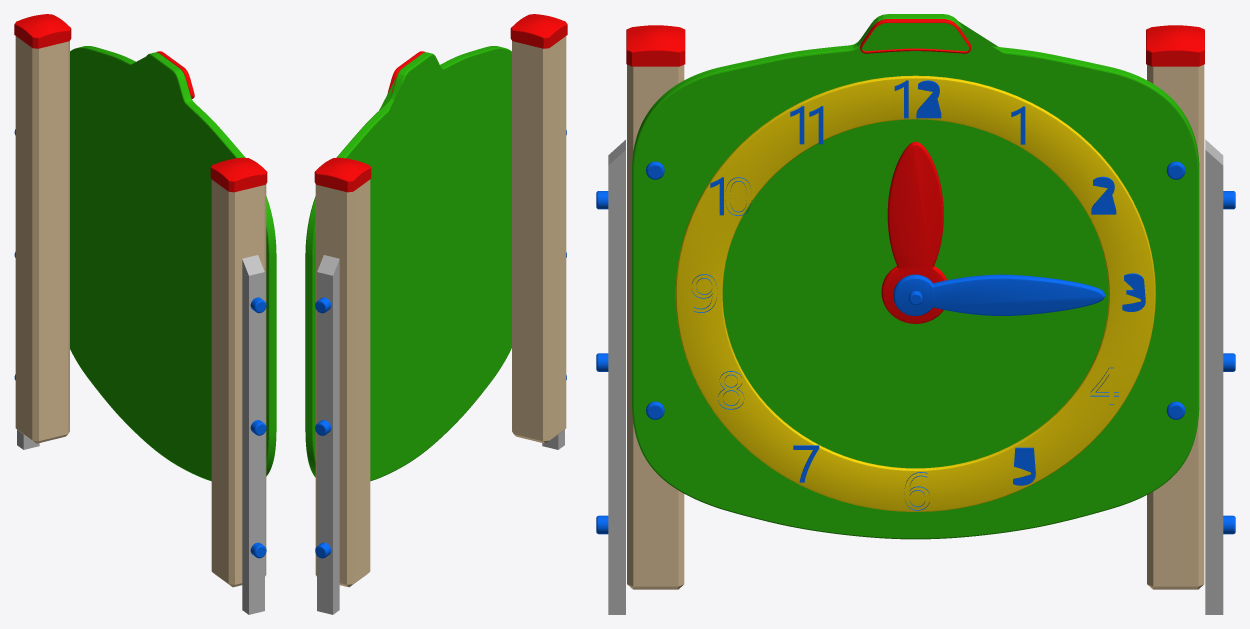
The picture shows the model from 3 angles, left to right: view 1: azimuth 30°, elevation 25°; view 2: azimuth 150°, elevation 25°; view 3: azimuth 270°, elevation 25°; orthographic projection. The views are drawn at different scales.
Parts seen in each view (by area): view 1: zelenieelementy, bejevieelementy, serieelementy, krasnieelementy, sinieelementy; view 2: zelenieelementy, bejevieelementy, serieelementy, krasnieelementy, sinieelementy; view 3: zelenieelementy, jeltieelementy, bejevieelementy, serieelementy, sinieelementy, krasnieelementy.
Boxes of the visible parts, x1,y1,x2,y2 form: zelenieelementy: [70, 46, 276, 481]; bejevieelementy: [15, 36, 266, 587]; serieelementy: [17, 255, 264, 614]; krasnieelementy: [14, 14, 267, 192]; sinieelementy: [14, 129, 266, 558]; zelenieelementy: [305, 46, 511, 481]; bejevieelementy: [315, 36, 566, 587]; serieelementy: [317, 255, 564, 614]; krasnieelementy: [314, 14, 567, 192]; sinieelementy: [315, 130, 566, 558]; zelenieelementy: [632, 14, 1199, 539]; jeltieelementy: [675, 75, 1155, 511]; bejevieelementy: [627, 64, 1204, 589]; serieelementy: [608, 139, 1223, 614]; sinieelementy: [596, 80, 1235, 534]; krasnieelementy: [626, 19, 1204, 323].
Size of the model in its own units: 15.62 by 113 by 107.
